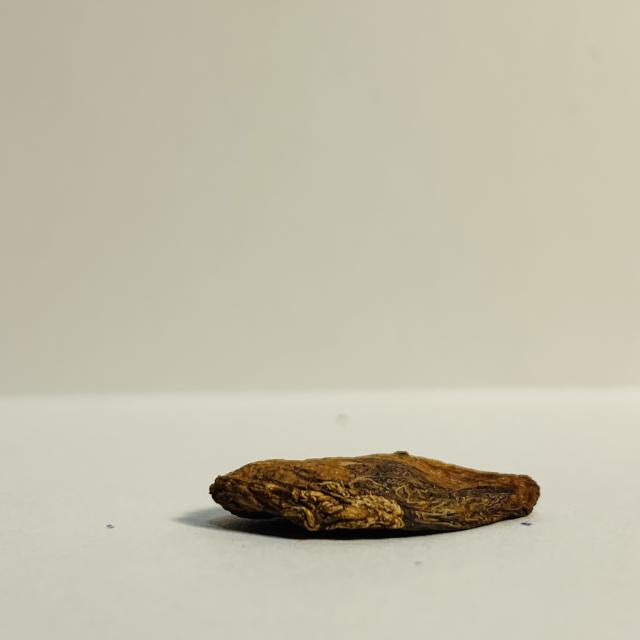Flat_cocoabeans: (126, 392, 579, 571)
